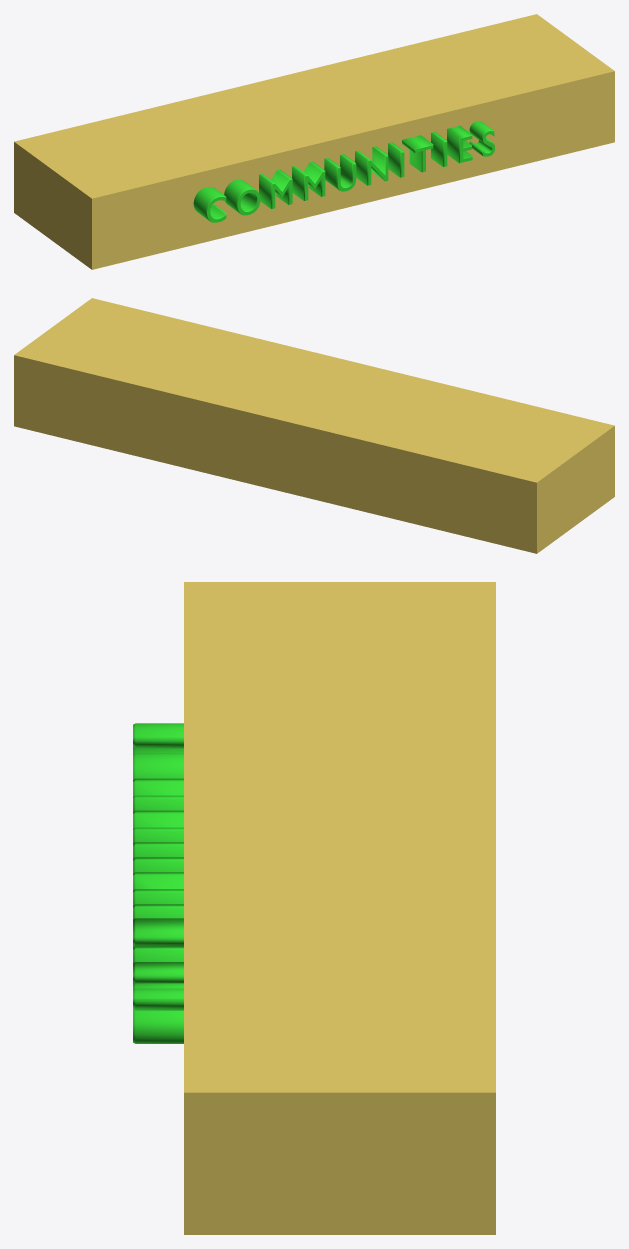
The model's file is comm.gltf.
3 renders of one model, top to bottom at view 1: azimuth 30°, elevation 25°; view 2: azimuth 150°, elevation 25°; view 3: azimuth 270°, elevation 25°, orthographic. The views are drawn at different scales.
Parts seen in each view (by area): view 1: Cube.006, CEELS.006; view 2: Cube.006; view 3: Cube.006, CEELS.006.
Boxes of the visible parts, <box> form: Cube.006: <box>14,14,614,269</box>; CEELS.006: <box>193,121,494,222</box>; Cube.006: <box>14,298,614,553</box>; Cube.006: <box>184,582,495,1234</box>; CEELS.006: <box>133,723,183,1043</box>.
Size of the model in its own units: 2.38 by 0.3096 by 0.7156.
